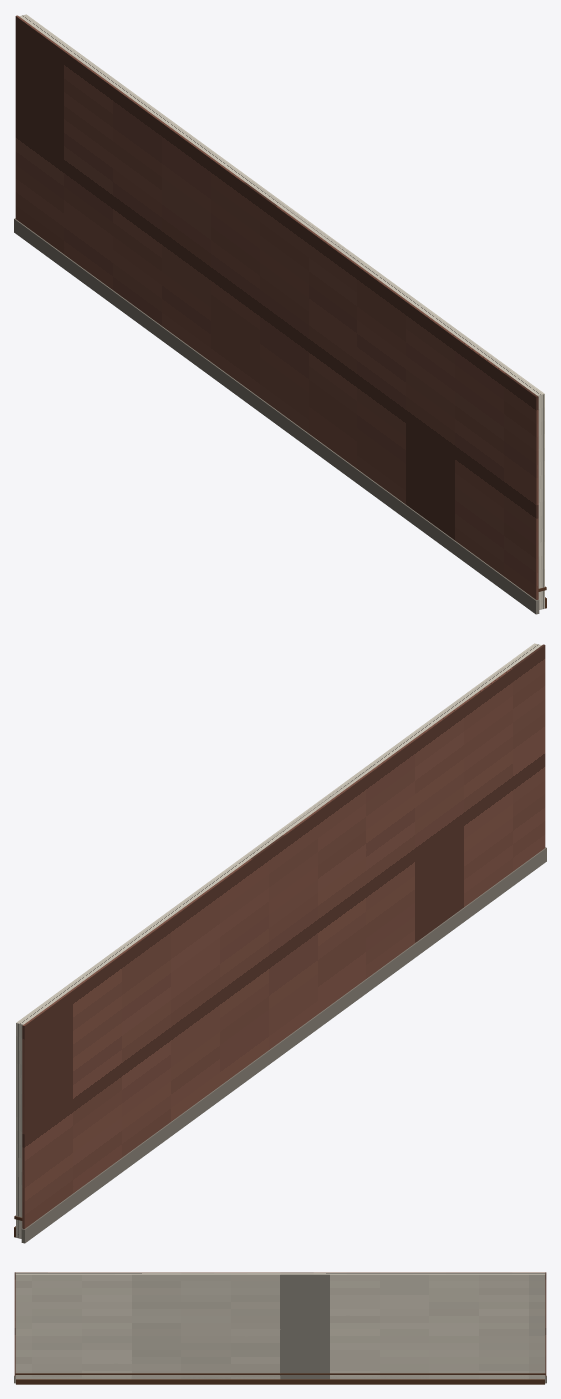
Rendered from middle_rear_l.glb.
The picture shows the model from 3 angles, top to bottom: view 1: azimuth 30°, elevation 25°; view 2: azimuth 150°, elevation 25°; view 3: azimuth 270°, elevation 25°; orthographic projection. The views are drawn at different scales.
Visible parts, largest first — view 1: Box3, Box4, Box1; view 2: Box3, Box4, Box1; view 3: Box1, Box2, Box6, Box3, Box5.
Part boxes in pixels (bbox=[...]): Box3: bbox=[15, 15, 538, 599]; Box4: bbox=[14, 218, 539, 614]; Box1: bbox=[19, 14, 544, 609]; Box3: bbox=[22, 644, 545, 1228]; Box4: bbox=[21, 847, 546, 1243]; Box1: bbox=[16, 643, 541, 1238]; Box1: bbox=[15, 1272, 545, 1383]; Box2: bbox=[16, 1379, 544, 1384]; Box6: bbox=[15, 1371, 545, 1374]; Box3: bbox=[14, 1272, 546, 1376]; Box5: bbox=[16, 1375, 545, 1379].
Bounding box in the file's own units: 0.25 × 4.04 × 17.62.
4 materials, 2 textured.
